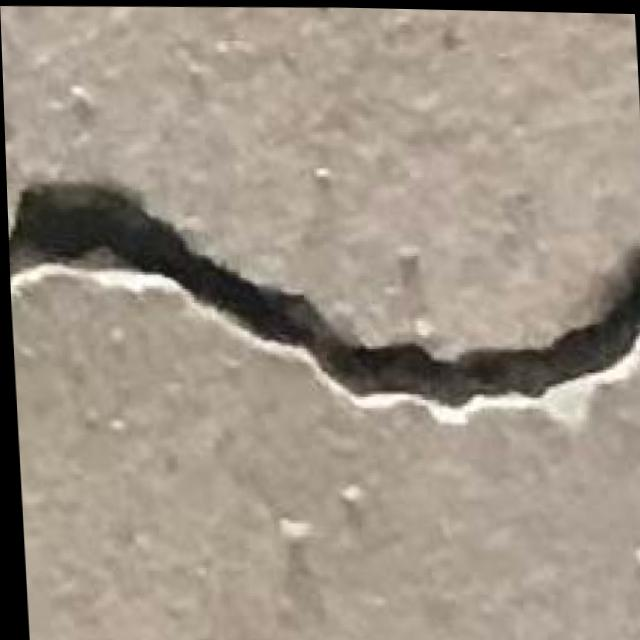Crack: (31, 164, 633, 459)
